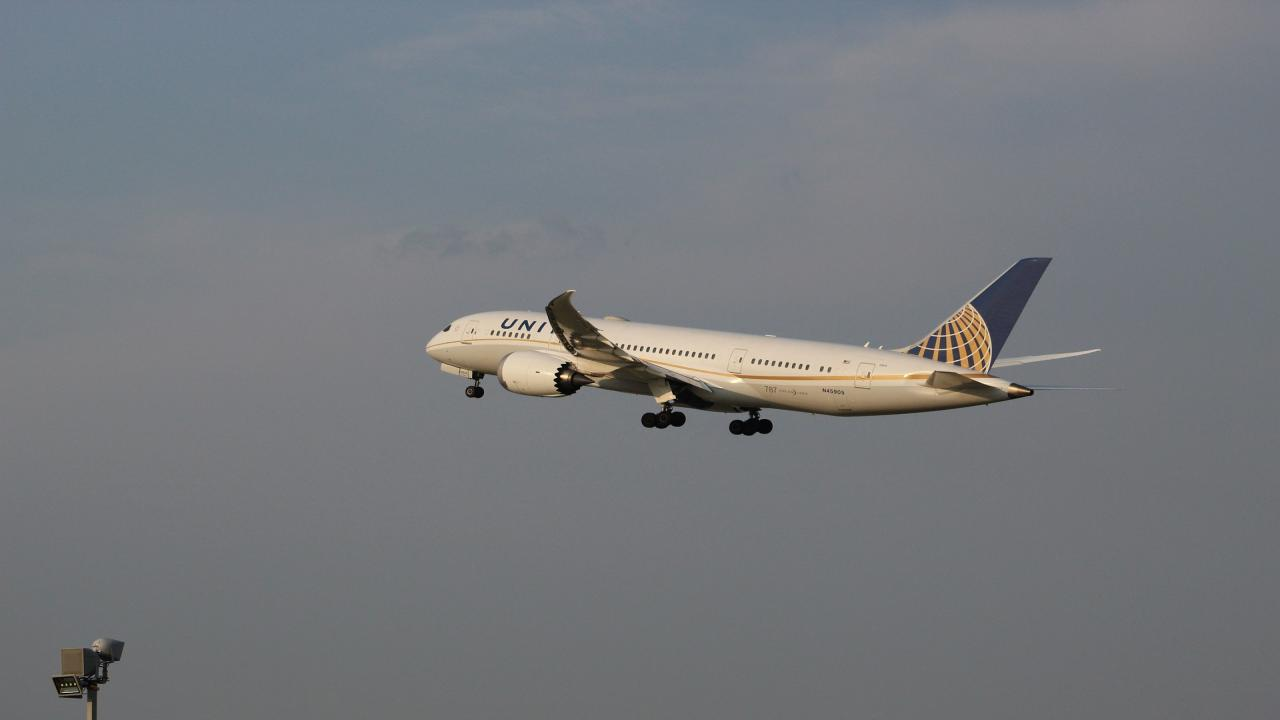Airplane: (411, 240, 1125, 458)
